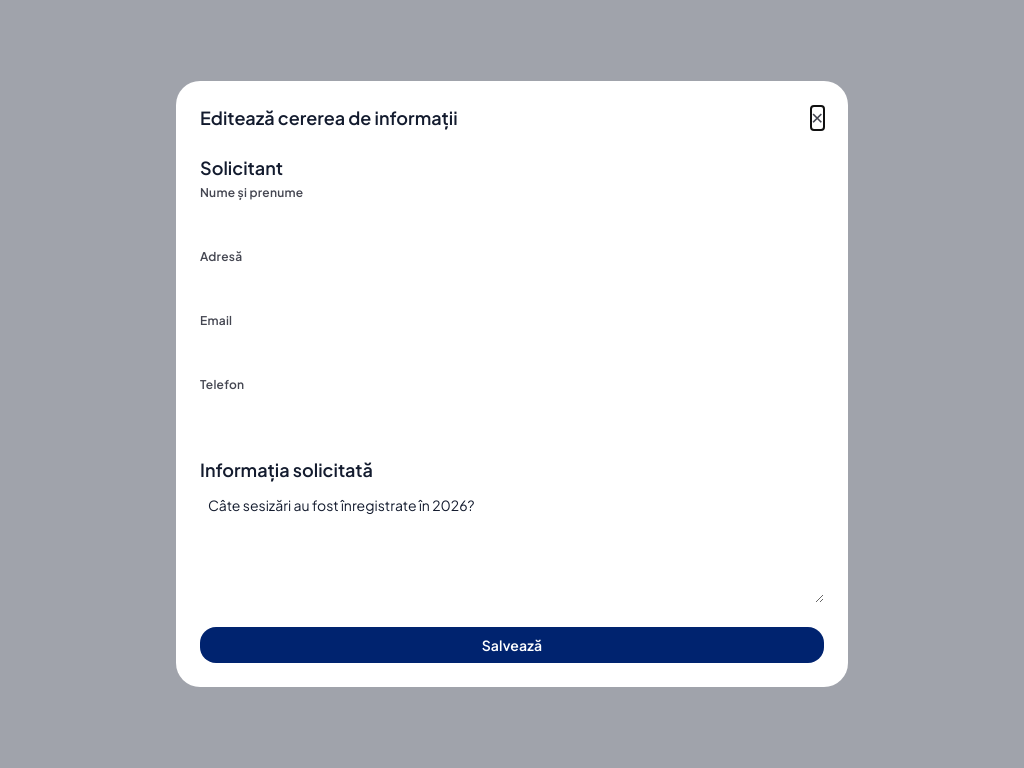
it: EditInfoRequestForm › blocks save and shows an inline error when the requested information is emptied out
The image size is (1024, 768).
Clear the text box showing "Câte sesizări au fost înregistrate în 2026?" at (512, 545), box 200,487 -> 824,603
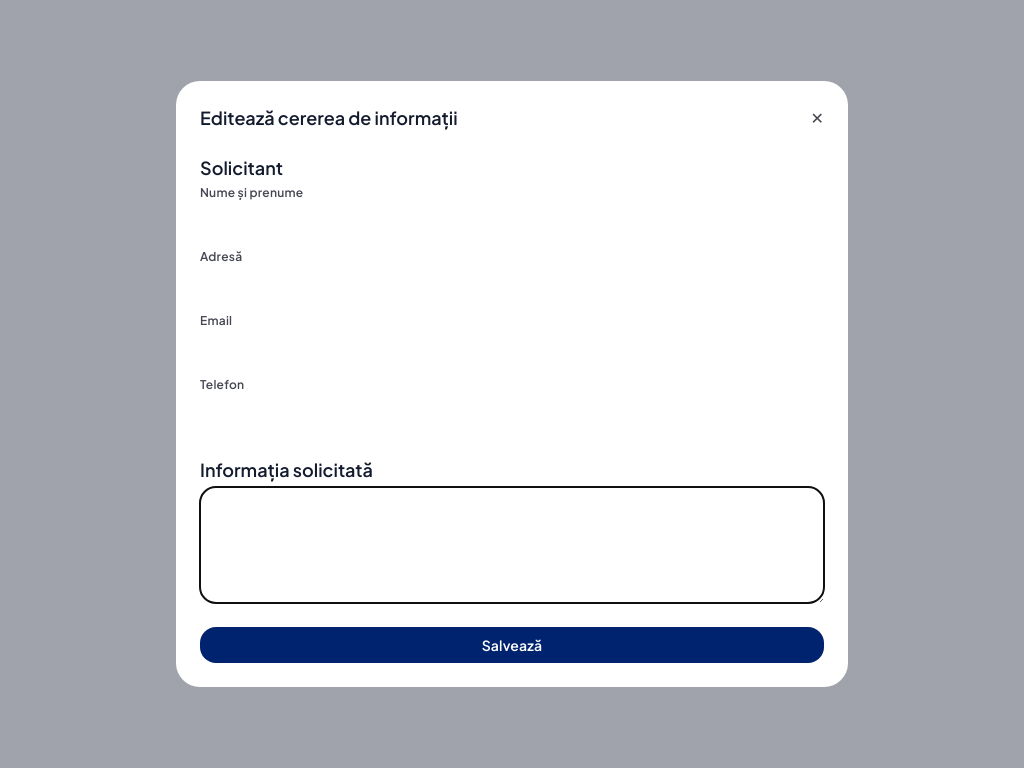
Click the button "Salvează" at (512, 645), box 200,627 -> 824,663
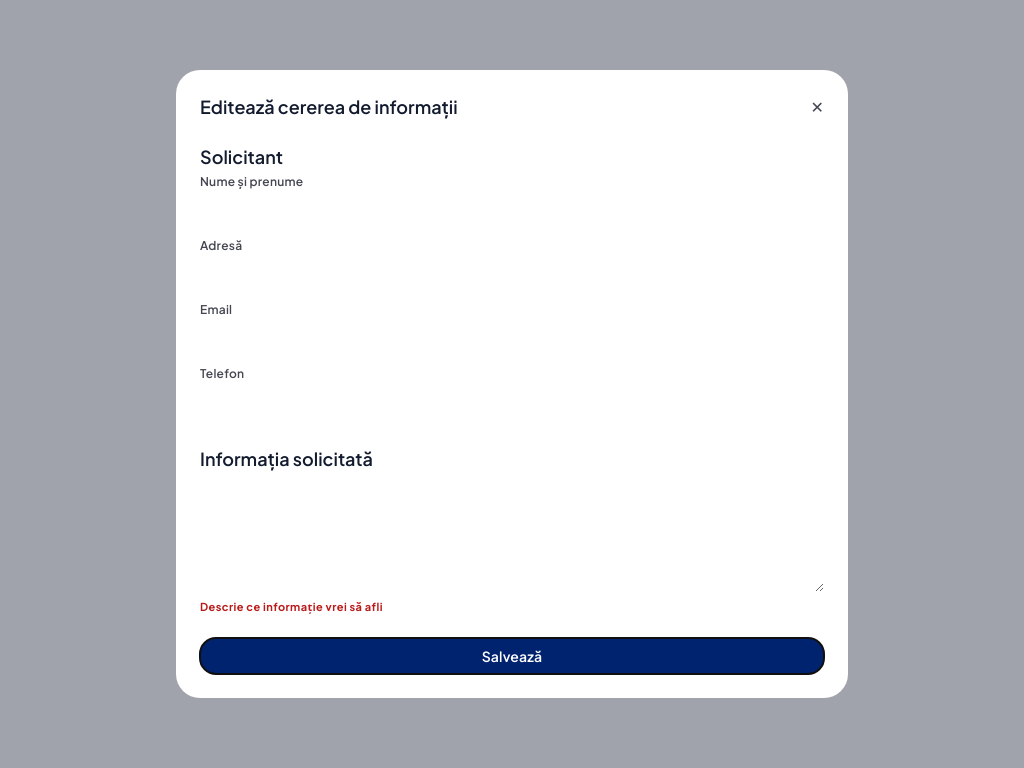
Now the message shows "Descrie ce informație", box 200,600 -> 383,613
